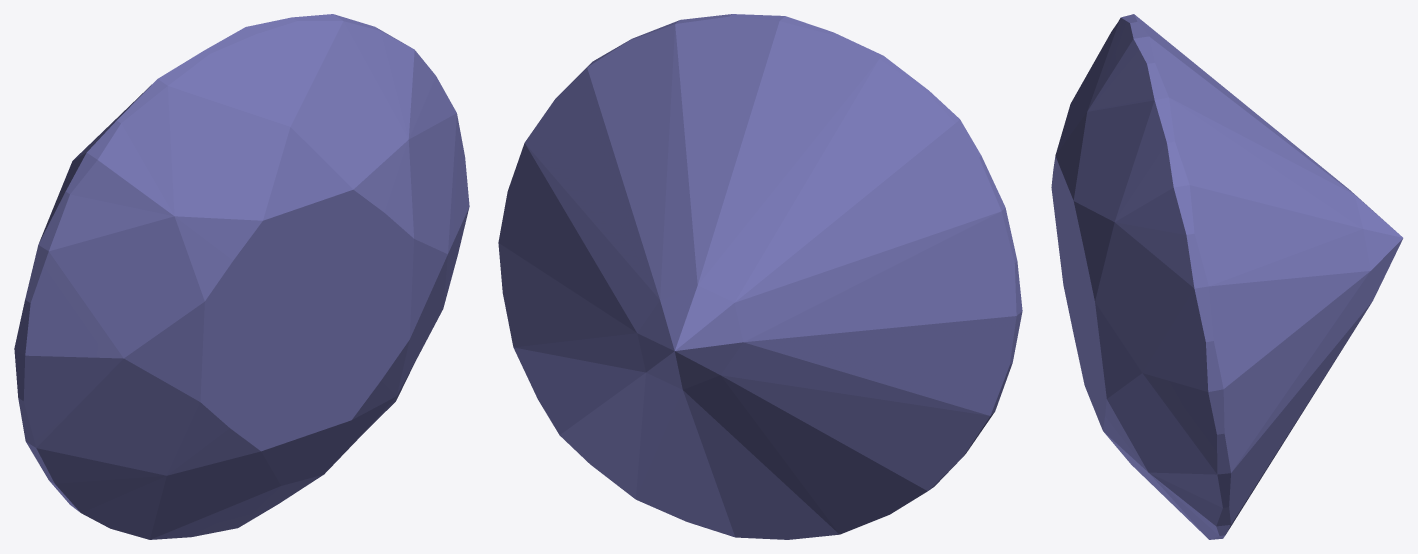
File: TR1_8shapes_Round_Classic_Stone.001 3.glb
The picture shows the model from 3 angles, left to right: view 1: azimuth 30°, elevation 25°; view 2: azimuth 150°, elevation 25°; view 3: azimuth 270°, elevation 25°; orthographic projection. The views are drawn at different scales.
Visible parts, largest first — view 1: TR1_8shapes_Round_Classic_Stone.001; view 2: TR1_8shapes_Round_Classic_Stone.001; view 3: TR1_8shapes_Round_Classic_Stone.001.
Part boxes in pixels (box(x1,y1,x2,y2)): TR1_8shapes_Round_Classic_Stone.001: box(14, 14, 469, 539); TR1_8shapes_Round_Classic_Stone.001: box(498, 14, 1022, 539); TR1_8shapes_Round_Classic_Stone.001: box(1051, 14, 1403, 539).
Bounding box in the file's own units: 0.528 × 0.5314 × 0.3565.
